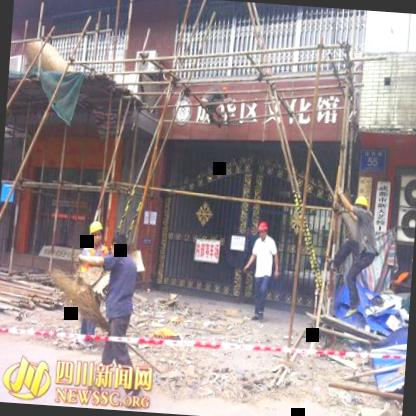head: (108, 232, 130, 260)
helmet: (86, 216, 106, 250), (352, 194, 370, 224), (256, 221, 268, 244), (218, 84, 231, 100)
